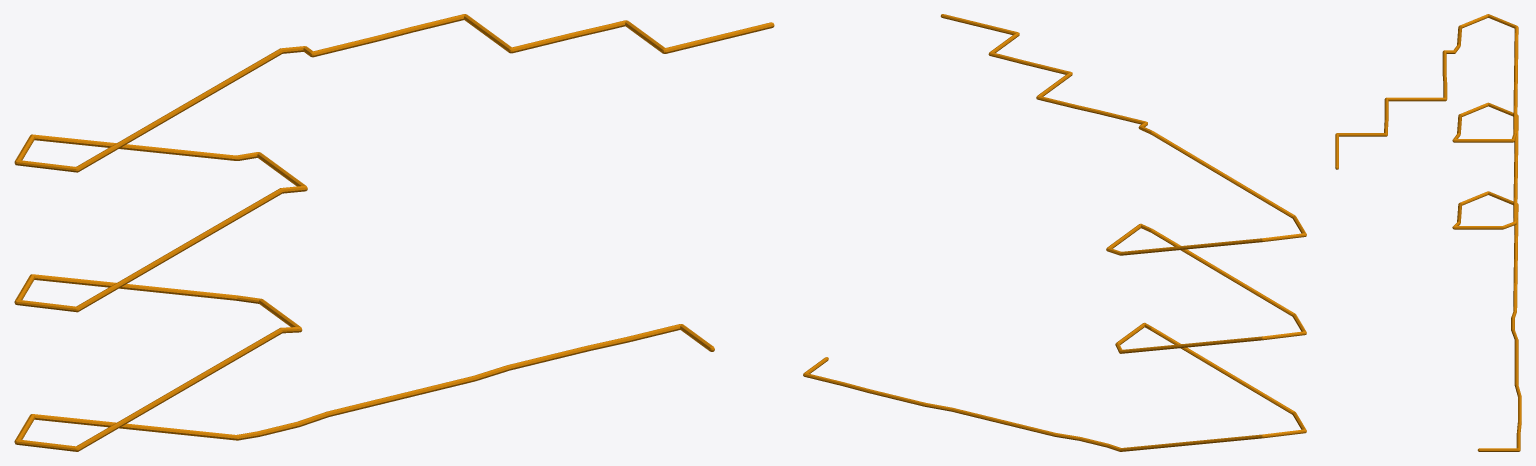
The picture shows the model from 3 angles, left to right: view 1: azimuth 30°, elevation 25°; view 2: azimuth 150°, elevation 25°; view 3: azimuth 270°, elevation 25°; orthographic projection. The views are drawn at different scales.
Size of the model in its own units: 2595 by 1520 by 955.
